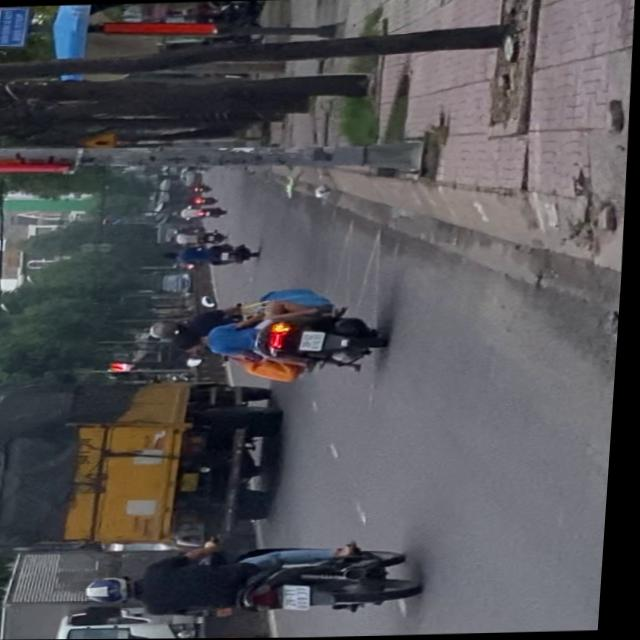helmet: (90, 573, 145, 605), (151, 319, 188, 341)
licenseplate: (86, 537, 429, 626), (150, 297, 395, 380)
motorcyclist: (175, 331, 212, 350)
nohelmet: (289, 585, 318, 610), (304, 330, 331, 350)
